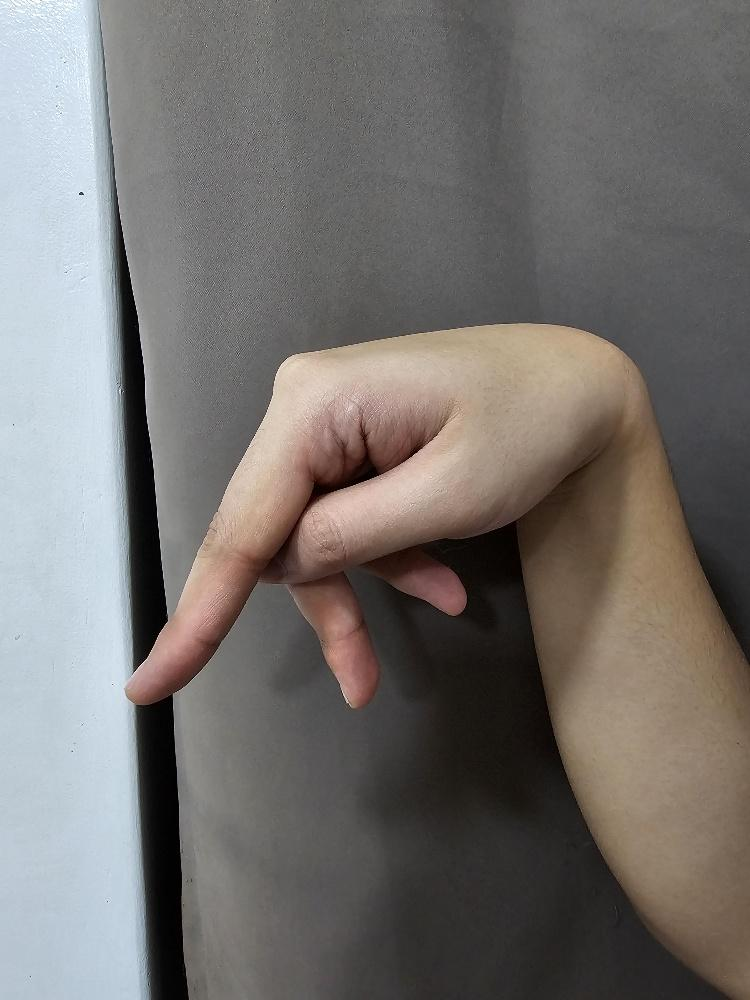p: (122, 317, 641, 713)
